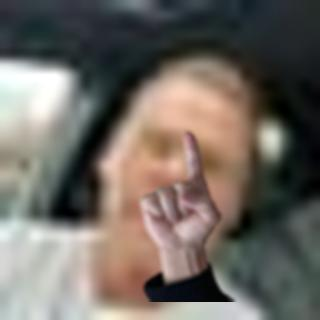IRRITATED: (136, 128, 224, 253)
